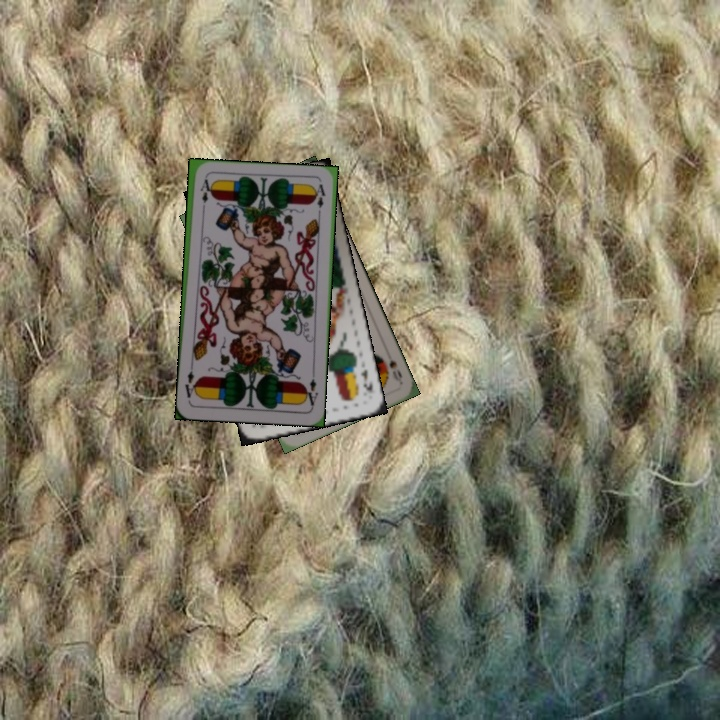EA: (300, 369, 321, 410), (196, 175, 211, 215)
EK: (357, 365, 376, 395)
SO: (385, 356, 405, 385)
